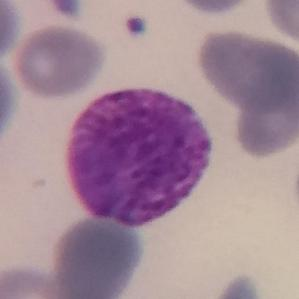Basophil: (56, 76, 221, 234)
Platelets: (48, 0, 85, 20), (123, 13, 149, 39)
RBC: (194, 26, 298, 118), (48, 207, 148, 299), (9, 22, 108, 100), (231, 73, 298, 160), (0, 262, 63, 299), (0, 54, 21, 153), (262, 0, 299, 46), (0, 0, 23, 64), (212, 272, 266, 299), (171, 0, 254, 17)
